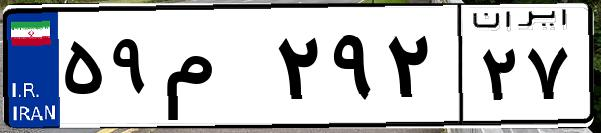2: (270, 28, 330, 110), (385, 28, 445, 110), (475, 38, 525, 113)
5: (57, 26, 110, 100)
7: (525, 38, 570, 115)
9: (330, 28, 385, 110), (110, 28, 158, 98)
م: (158, 20, 270, 120)
